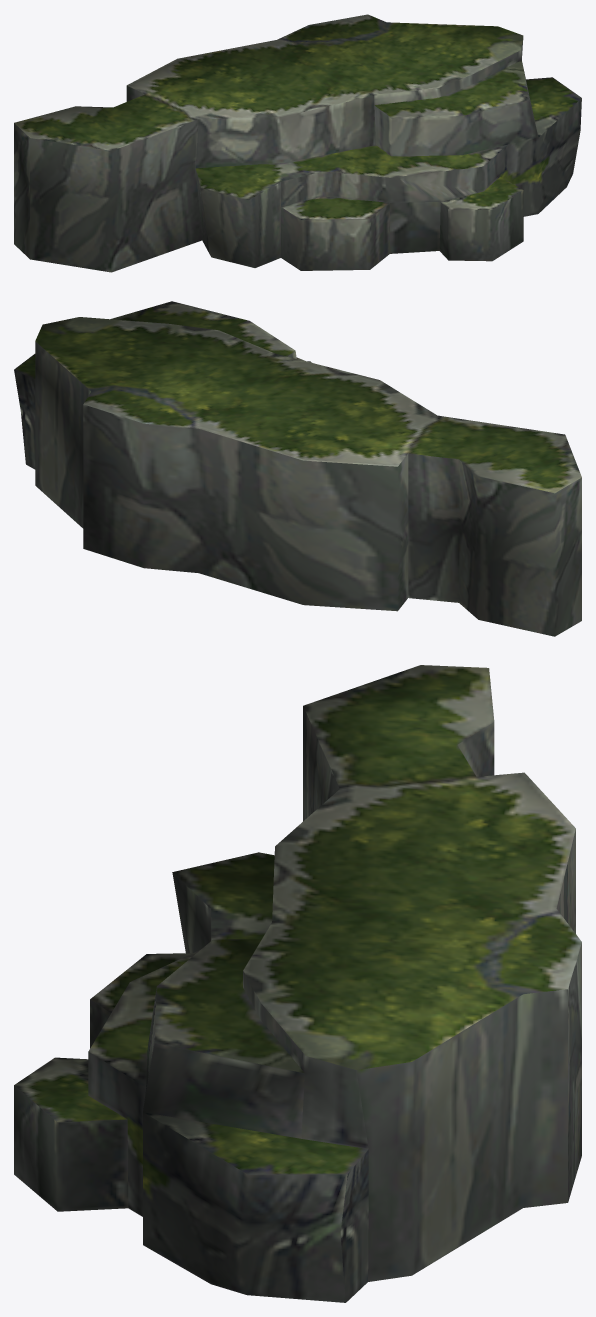
File: Battle01_DuoBaoQiBingRock_04.FBX
3 views of the same model, one above another, from view 1: azimuth 30°, elevation 25°; view 2: azimuth 150°, elevation 25°; view 3: azimuth 270°, elevation 25° (orthographic). The views are drawn at different scales.
Parts seen in each view (by area): view 1: Battle01_DuoBaoQiBingRock_04; view 2: Battle01_DuoBaoQiBingRock_04; view 3: Battle01_DuoBaoQiBingRock_04.
Boxes of the visible parts, bbox=[...] form: Battle01_DuoBaoQiBingRock_04: bbox=[14, 14, 581, 272]; Battle01_DuoBaoQiBingRock_04: bbox=[14, 301, 581, 636]; Battle01_DuoBaoQiBingRock_04: bbox=[14, 665, 581, 1302].
Size of the model in its own units: 24.92 by 5.91 by 13.95.
